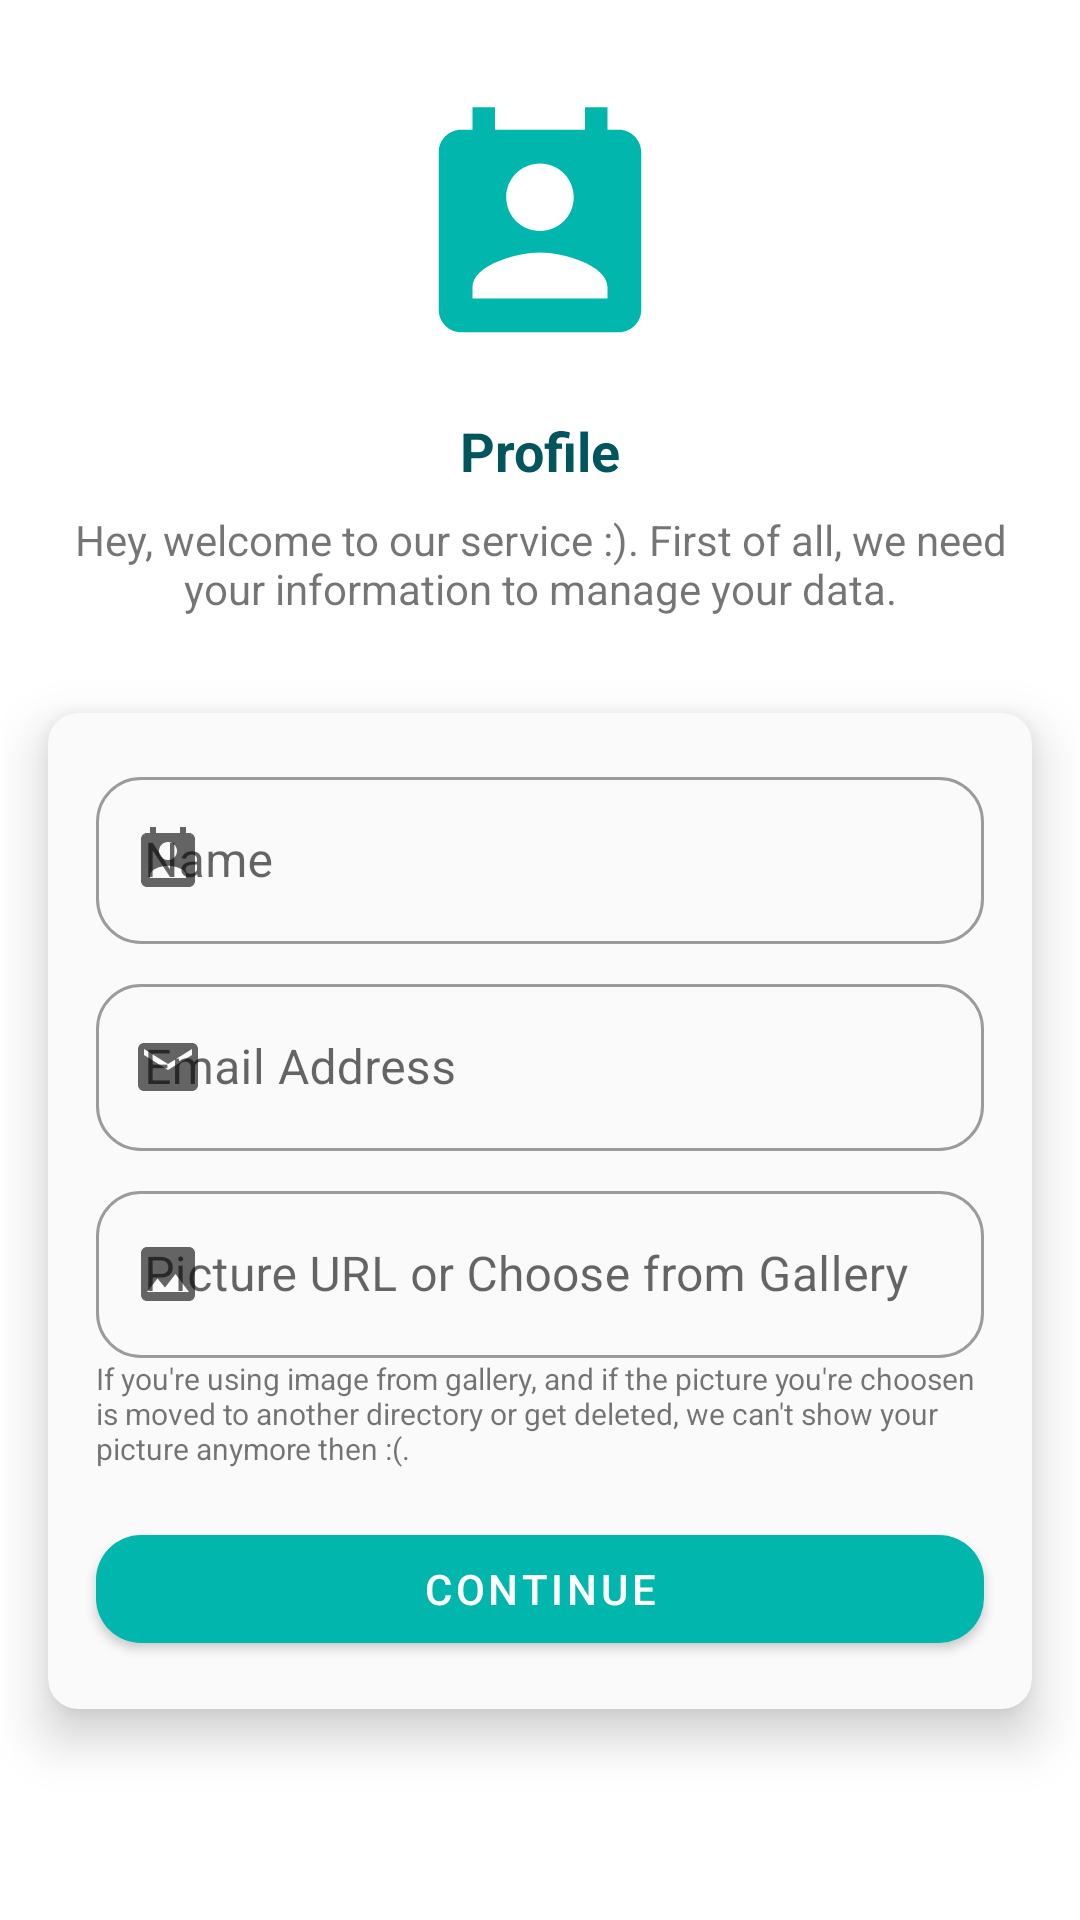

Locate icon controls on the screen. Image size 1080w x 1920h, boxes as bbox=[x1, y1, x2, y2].
perm contact calendar: bbox=[438, 107, 642, 333]
